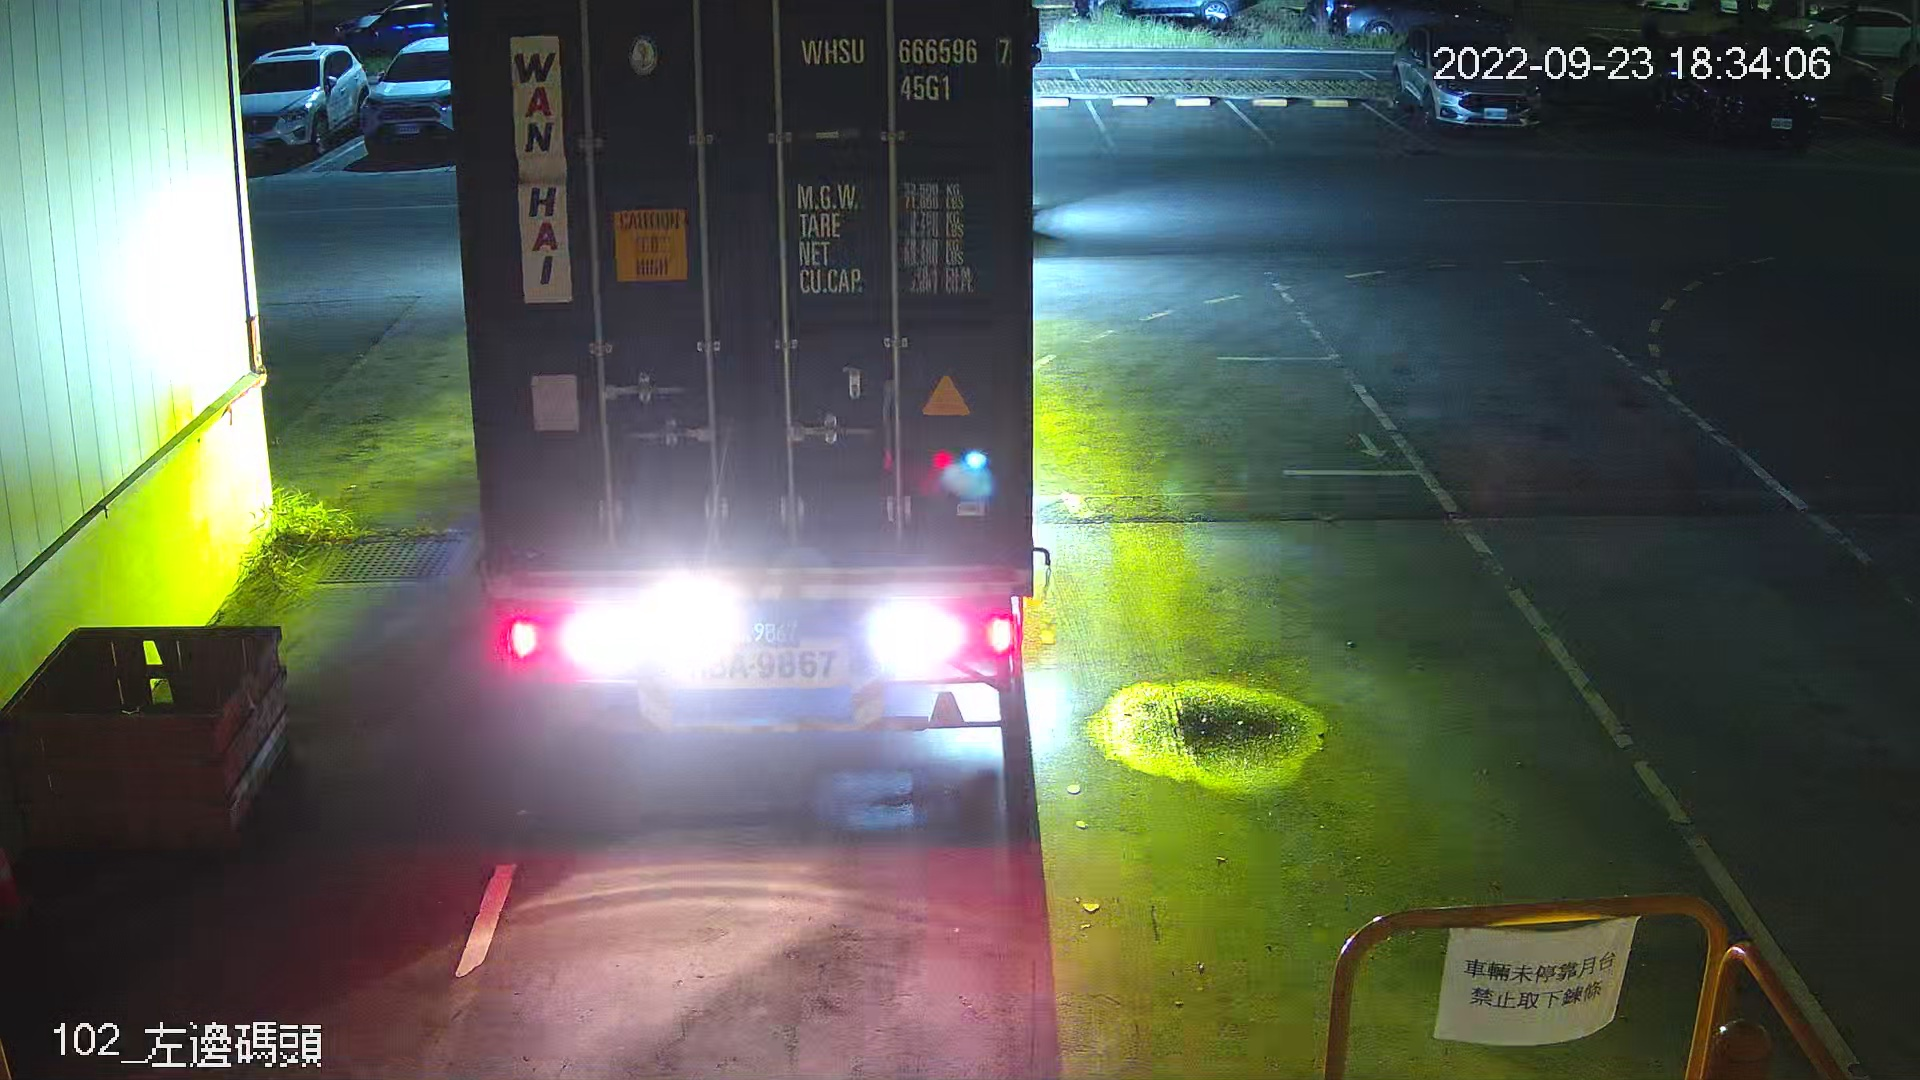container: (789, 22, 1019, 109)
